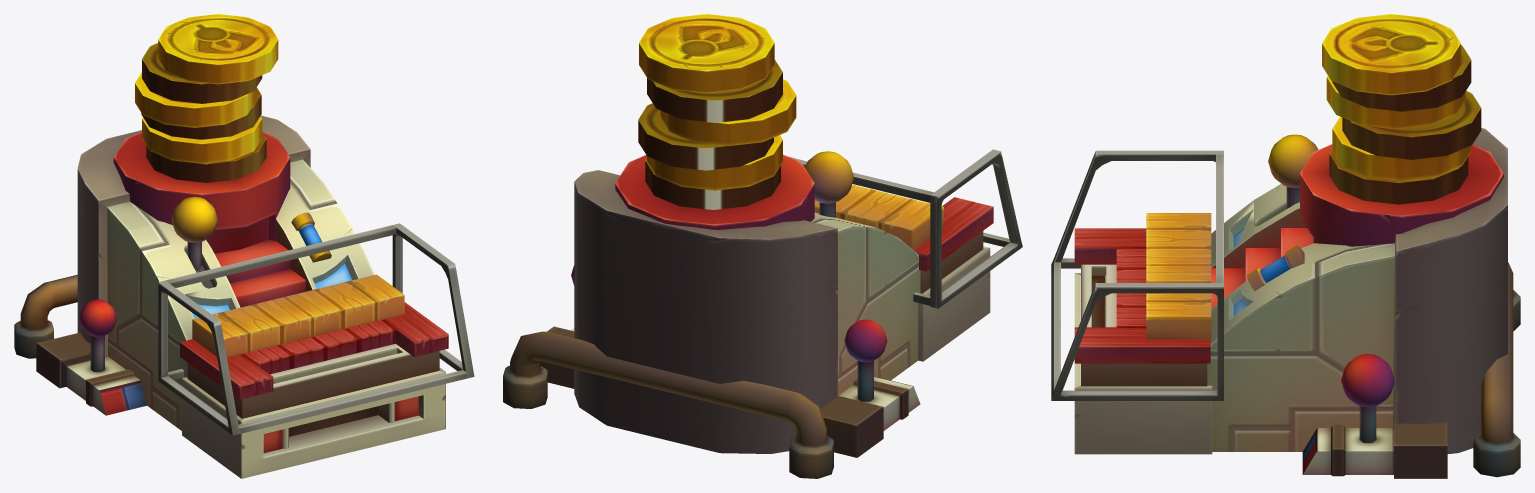
File: scenes_construction_coinmachine01.FBX
3 renders of one model, left to right at view 1: azimuth 30°, elevation 25°; view 2: azimuth 150°, elevation 25°; view 3: azimuth 270°, elevation 25°, orthographic. The views are drawn at different scales.
Visible parts, largest first — view 1: scenes_construction_coinmachine01; view 2: scenes_construction_coinmachine01; view 3: scenes_construction_coinmachine01.
Part boxes in pixels (x1=…): scenes_construction_coinmachine01: x1=14, y1=14, x2=474, y2=478; scenes_construction_coinmachine01: x1=503, y1=14, x2=1022, y2=478; scenes_construction_coinmachine01: x1=1051, y1=14, x2=1520, y2=478.
Size of the model in its own units: 1346 by 1372 by 1622.
